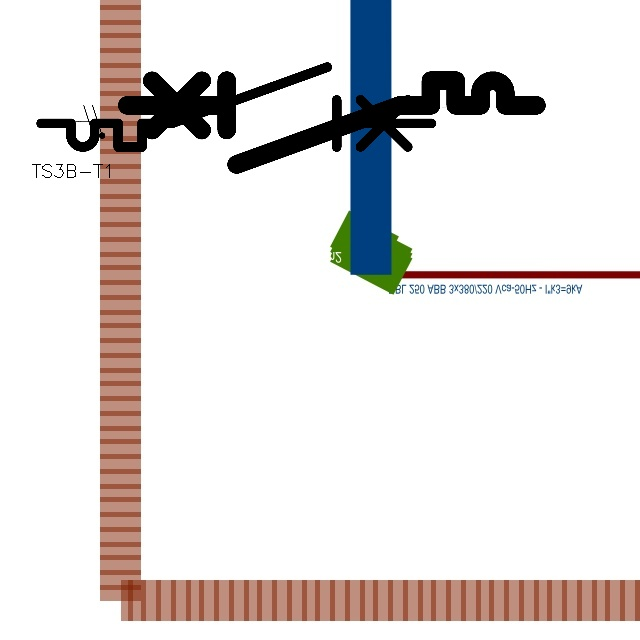interruptor_termomagnetico: (116, 70, 546, 175), (31, 57, 441, 157)
